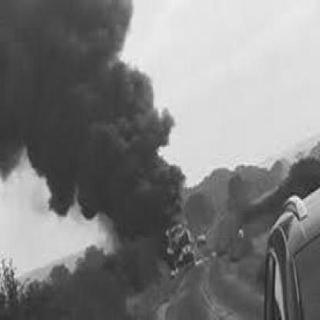Smoke: (4, 0, 194, 239)
